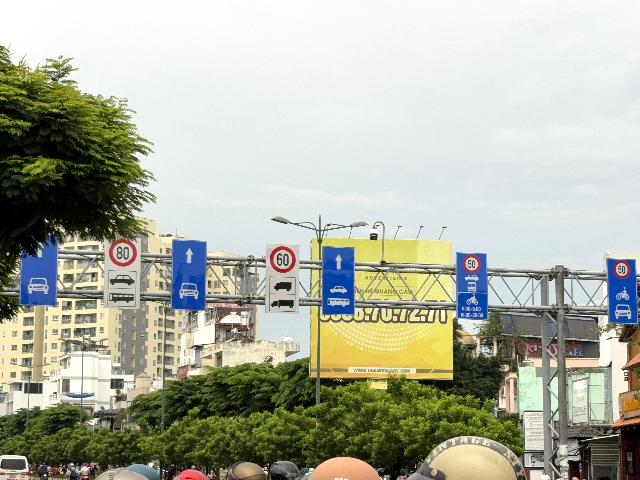toc-do-toi-da-cho-phep: (108, 238, 138, 268), (269, 246, 296, 273), (462, 254, 480, 274), (614, 260, 630, 279)
